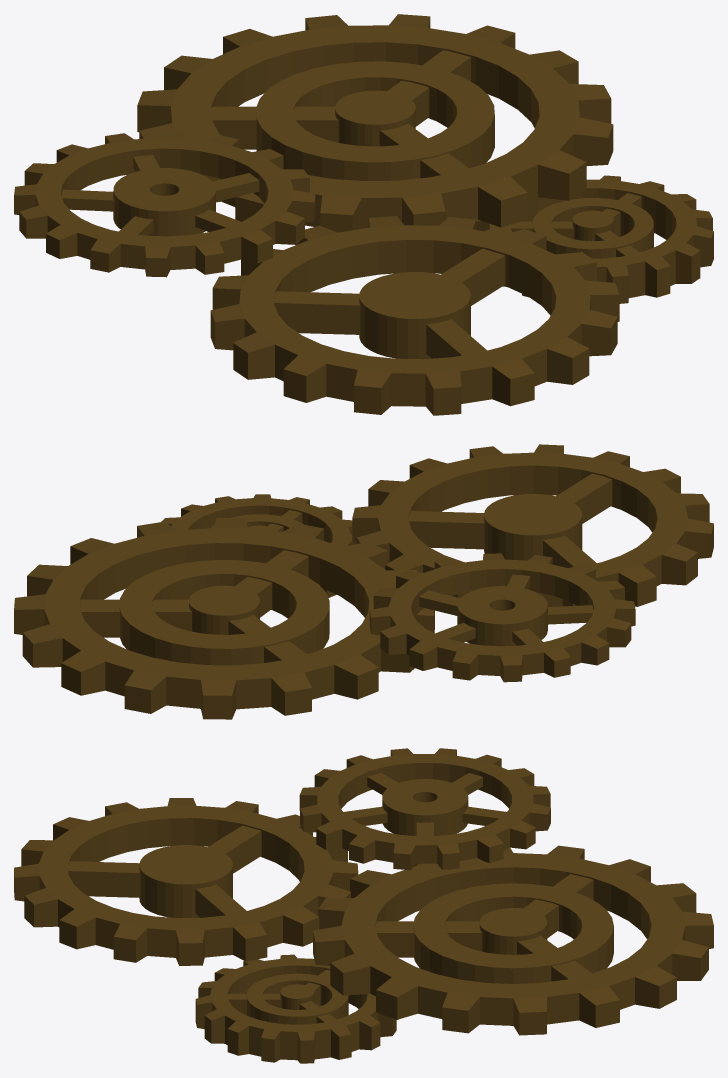
3 renders of one model, top to bottom at view 1: azimuth 30°, elevation 25°; view 2: azimuth 150°, elevation 25°; view 3: azimuth 270°, elevation 25°, orthographic. The views are drawn at different scales.
Parts seen in each view (by area): view 1: Cylinder005; view 2: Cylinder005; view 3: Cylinder005.
Boxes of the visible parts, x1,y1,x2,y2 form: Cylinder005: [14, 14, 713, 415]; Cylinder005: [14, 444, 713, 719]; Cylinder005: [14, 748, 713, 1063].
Size of the model in its own units: 691 by 112 by 832.
